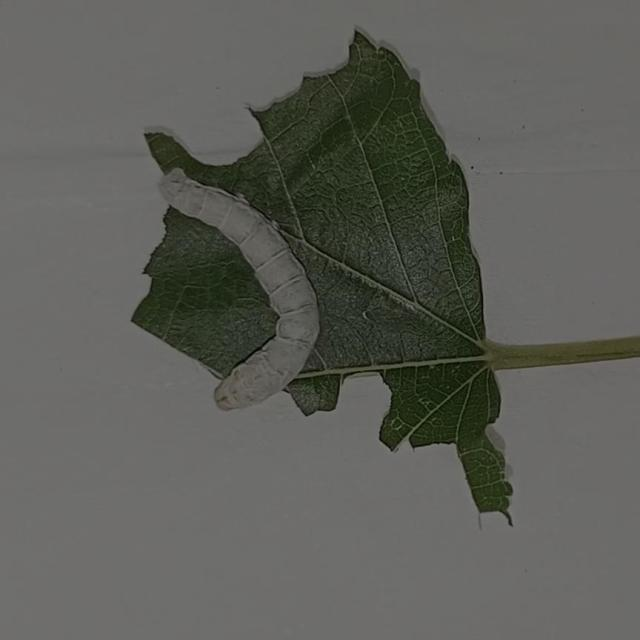Healthy: (132, 153, 341, 436)
